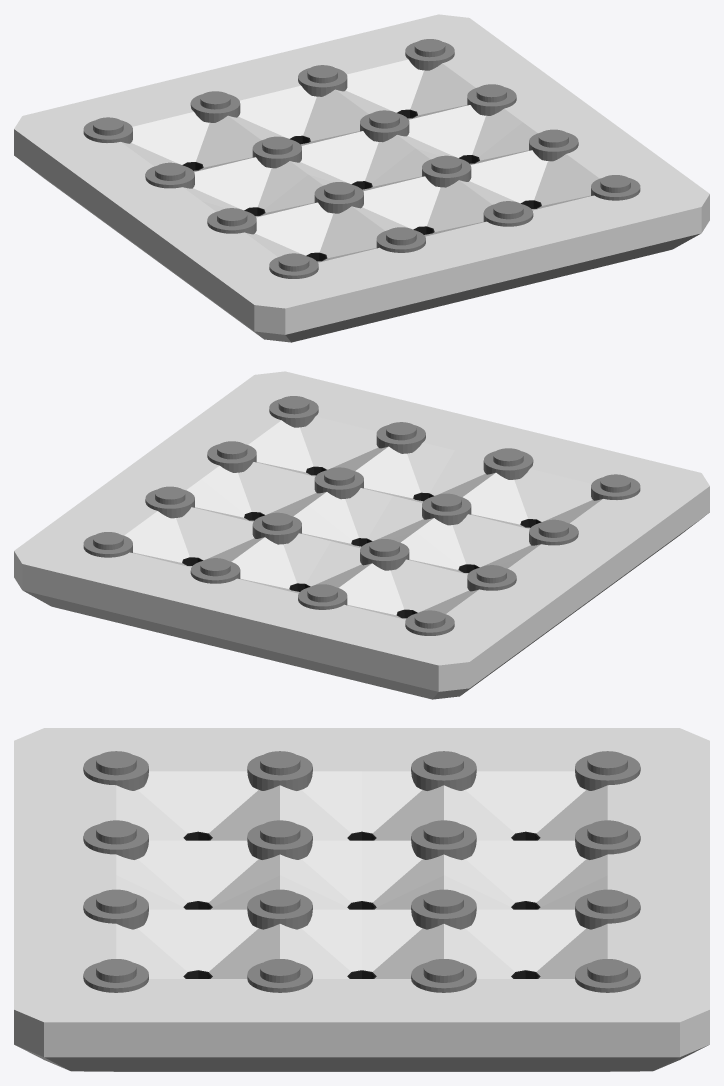
The model's file is SimpeiBoard.fbx.
3 views of the same model, one above another, from view 1: azimuth 30°, elevation 25°; view 2: azimuth 150°, elevation 25°; view 3: azimuth 270°, elevation 25° (orthographic). The views are drawn at different scales.
Visible parts, largest first — view 1: 立方体, 円.003, 円.001, 円.002, 円; view 2: 立方体, 円.003, 円.001, 円.002, 円; view 3: 立方体, 円.003, 円.001, 円.002, 円.
Boxes of the visible parts, x1,y1,x2,y2 form: 立方体: (14, 14, 709, 342); 円.003: (252, 110, 471, 213); 円.001: (190, 65, 533, 252); 円.002: (145, 84, 578, 234); 円: (83, 39, 640, 278); 立方体: (14, 371, 709, 699); 円.003: (252, 467, 471, 570); 円.001: (190, 422, 533, 609); 円.002: (145, 441, 578, 591); 円: (83, 396, 640, 635); 立方体: (14, 728, 709, 1071); 円.003: (247, 820, 476, 929); 円.001: (83, 820, 640, 929); 円.002: (247, 751, 476, 992); 円: (83, 751, 640, 992).
Size of the model in its own units: 1360 by 225 by 1360.
Materials: 5 (5 with a texture image).
